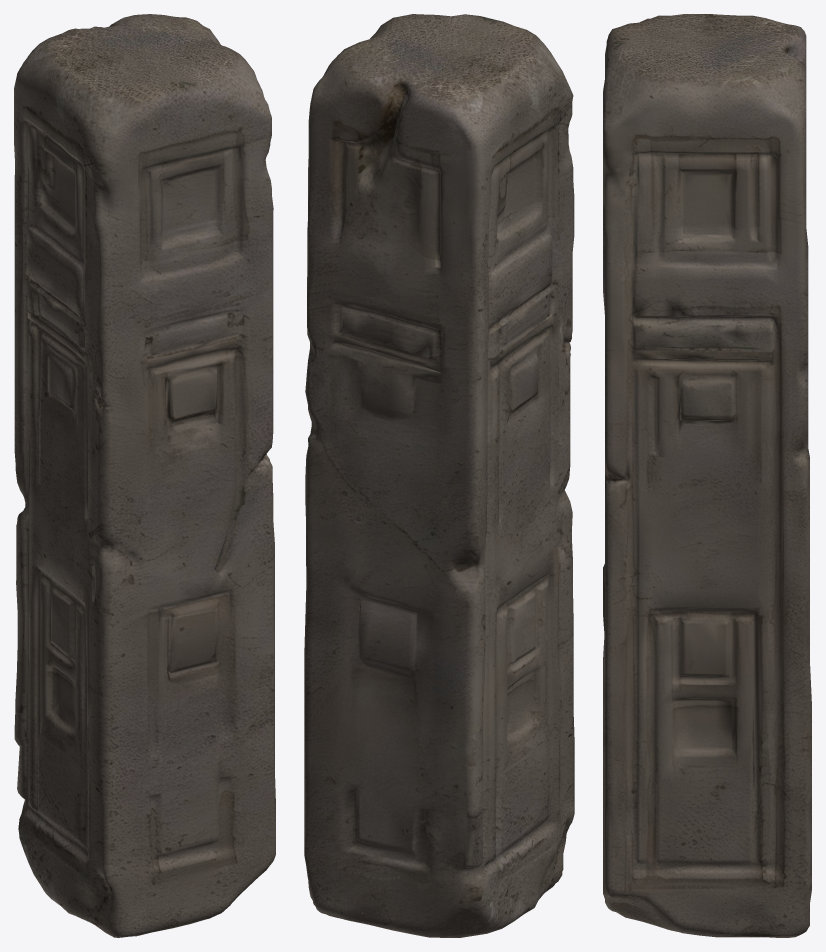
Rendered from pilar.glb.
3 renders of one model, left to right at view 1: azimuth 30°, elevation 25°; view 2: azimuth 150°, elevation 25°; view 3: azimuth 270°, elevation 25°, orthographic.
Visible parts, largest first — view 1: tripo_node_4fffe3da-64f4-4786-a67a-ece69; view 2: tripo_node_4fffe3da-64f4-4786-a67a-ece69; view 3: tripo_node_4fffe3da-64f4-4786-a67a-ece69.
Boxes of the visible parts, bbox=[...] form: tripo_node_4fffe3da-64f4-4786-a67a-ece69: bbox=[14, 14, 275, 937]; tripo_node_4fffe3da-64f4-4786-a67a-ece69: bbox=[304, 14, 574, 937]; tripo_node_4fffe3da-64f4-4786-a67a-ece69: bbox=[603, 14, 811, 937].
Size of the model in its own units: 0.2207 by 0.998 by 0.2207.
Materials: 1 (1 with a texture image).
